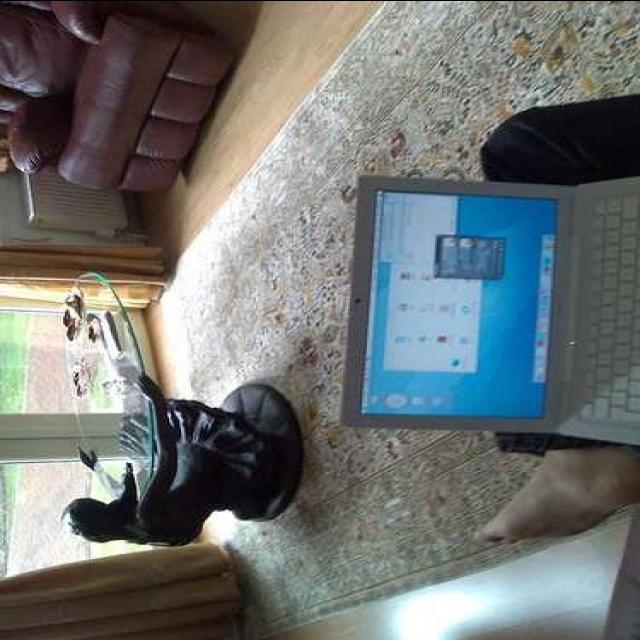laptop: (356, 163, 640, 453)
